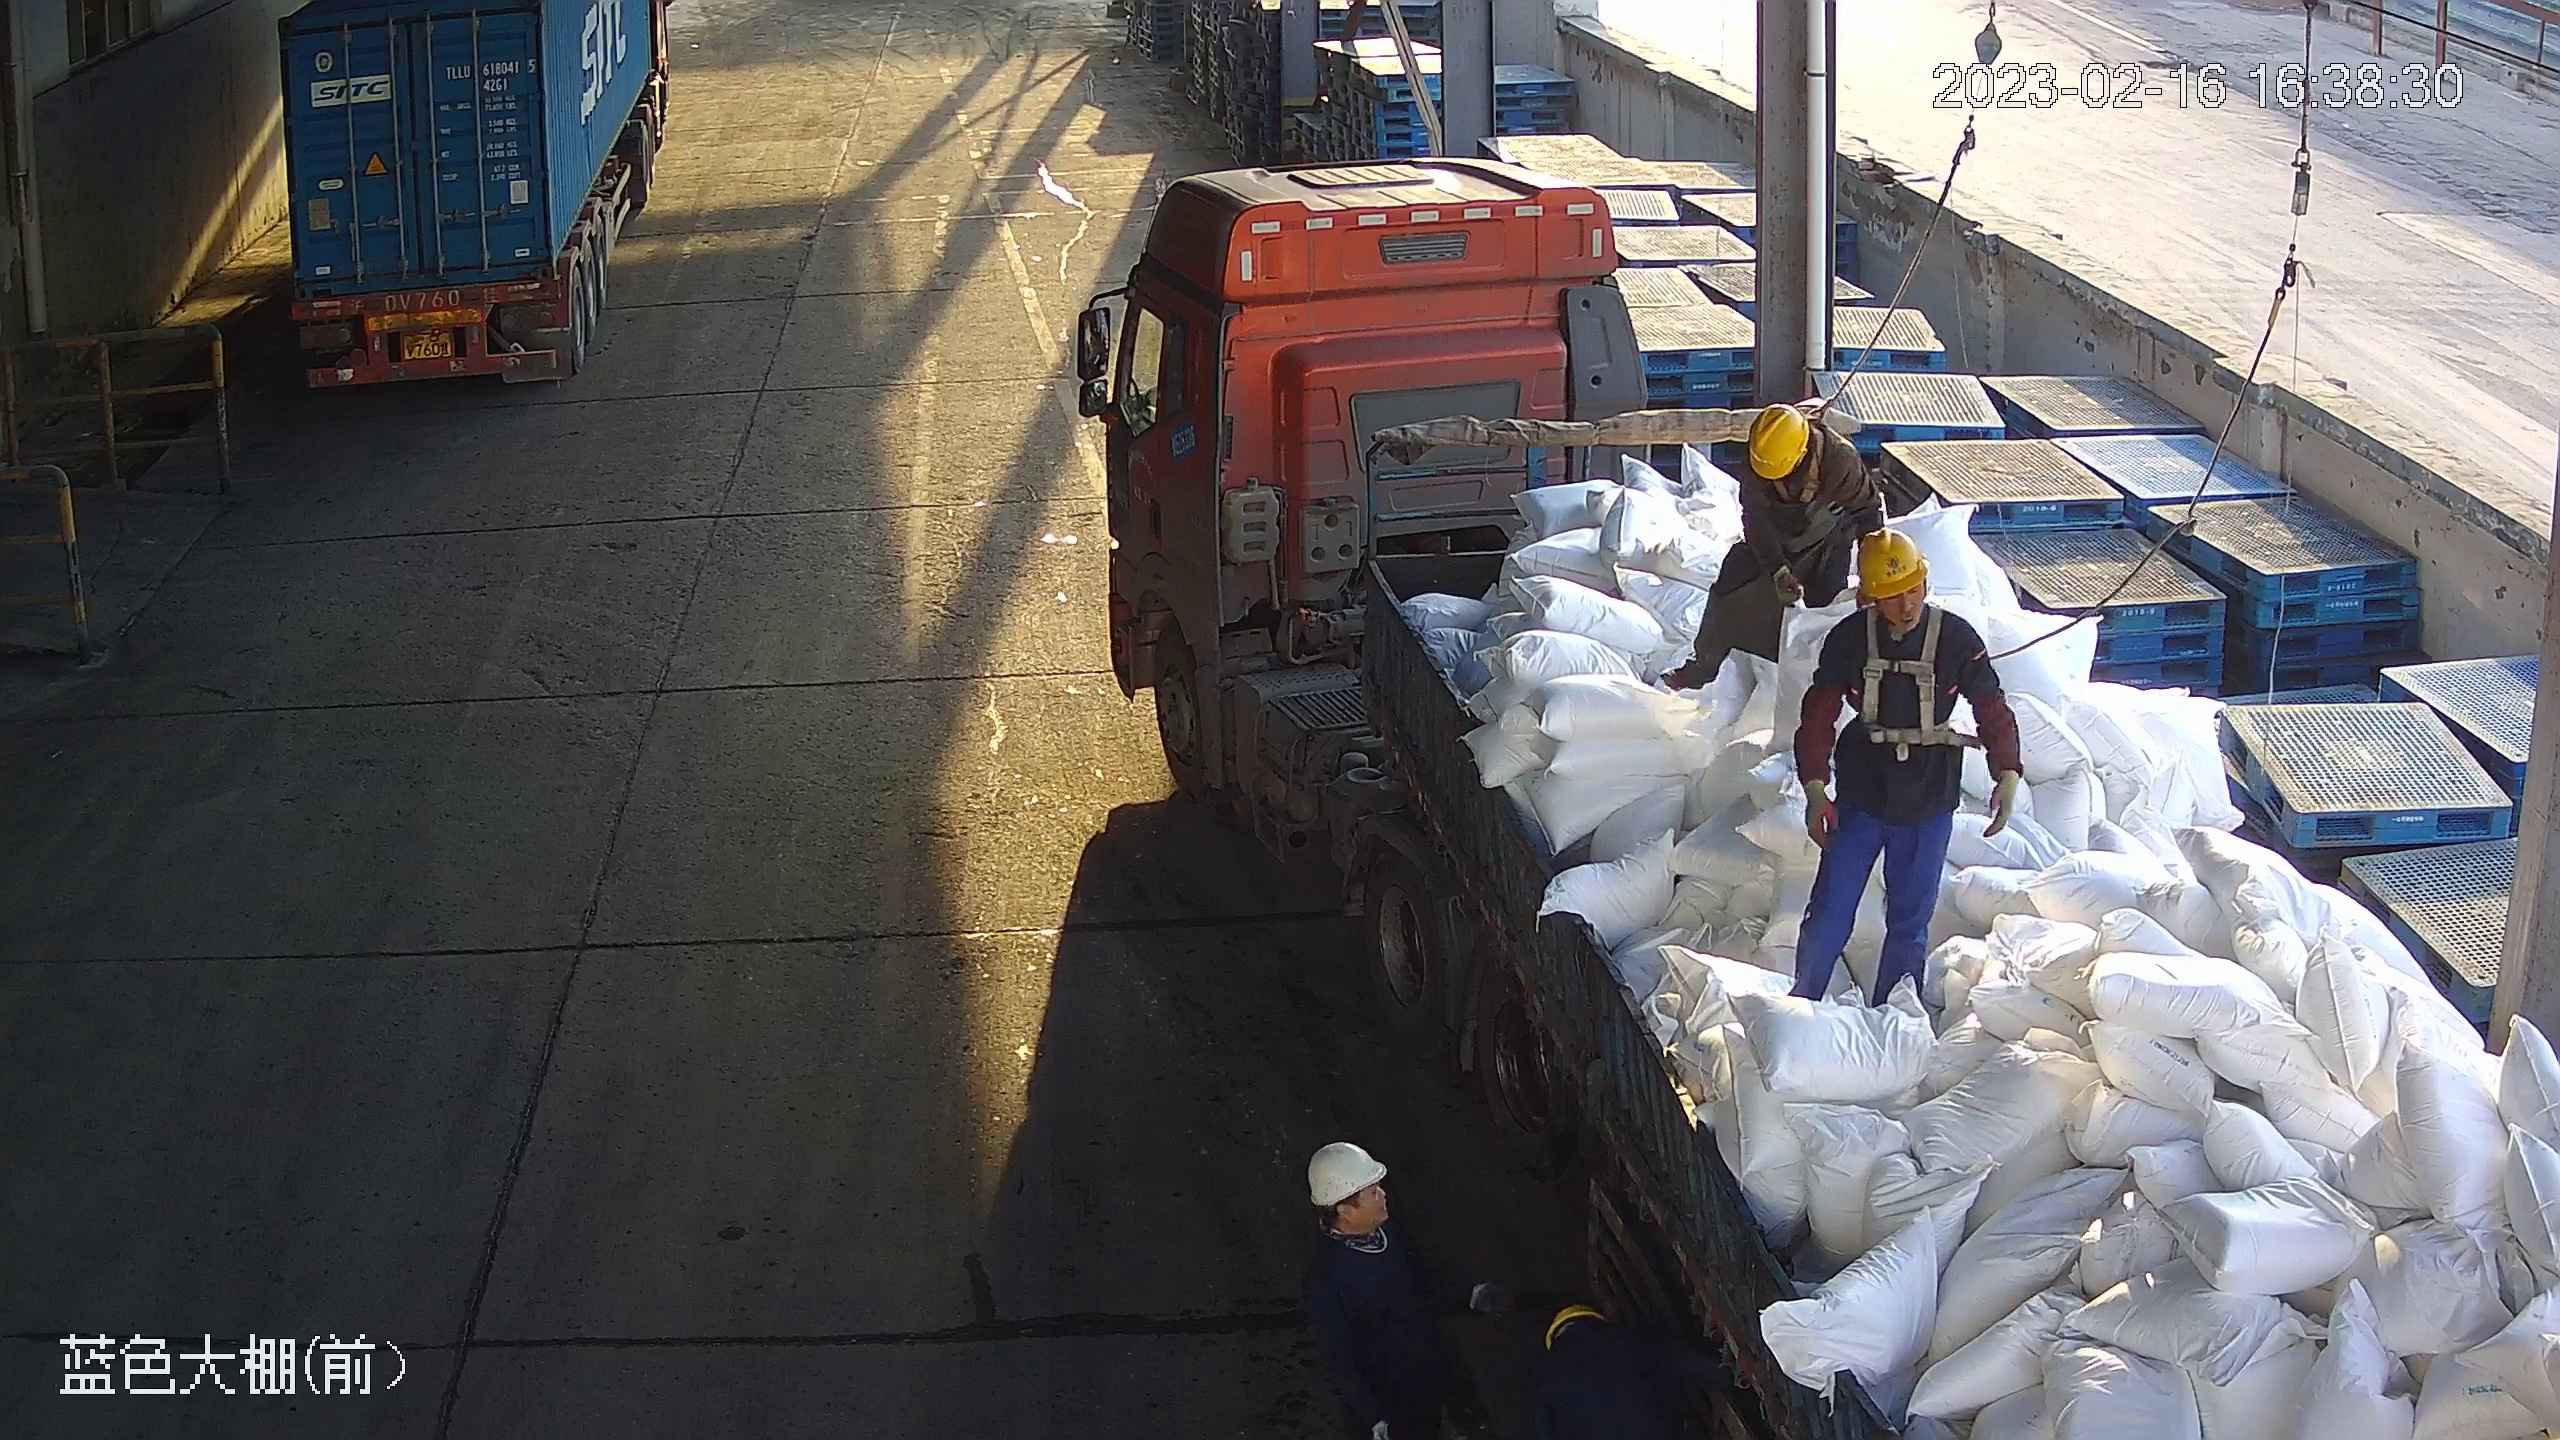belt: (1857, 593, 1979, 747), (1775, 440, 1836, 517)
head: (1812, 529, 1999, 675), (1736, 399, 1862, 523)
helmet: (1848, 532, 1951, 603), (1740, 403, 1814, 486)
people: (1798, 530, 2014, 995)
truck: (1090, 158, 2560, 1440), (272, 1, 672, 404)
